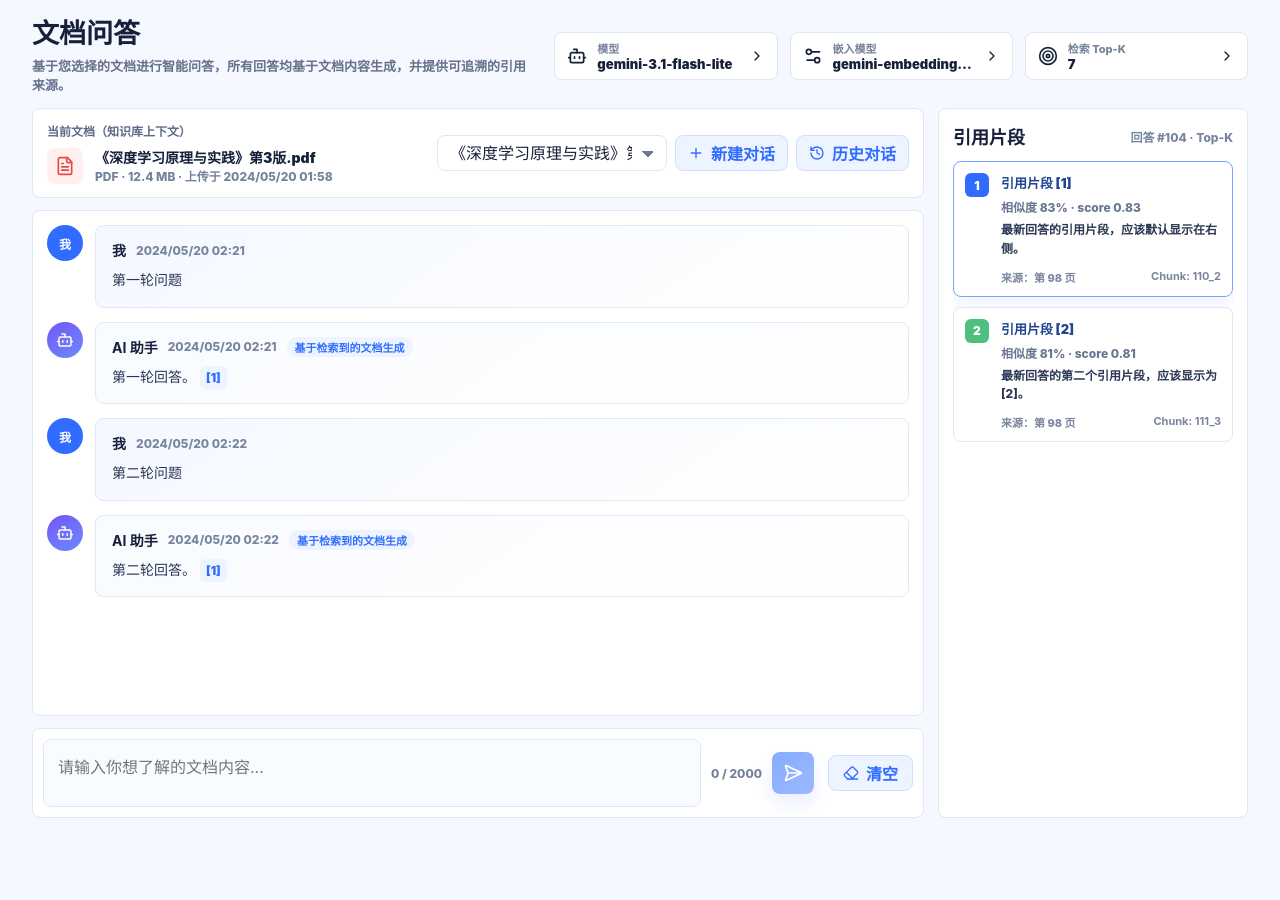
Test: DocumentChatPage › shows citations for the latest answer by default and switches when an older marker is clicked
The image size is (1280, 900).
Check: the text "最新回答的引用片段，应该默认显示在右侧。" is shown, box [1001,221,1221,259]
Check: the text "引用片段 [1]" is shown, box [1001,175,1072,191]
Click the button named "引用 1" at (213, 377), box [200,366,227,389]
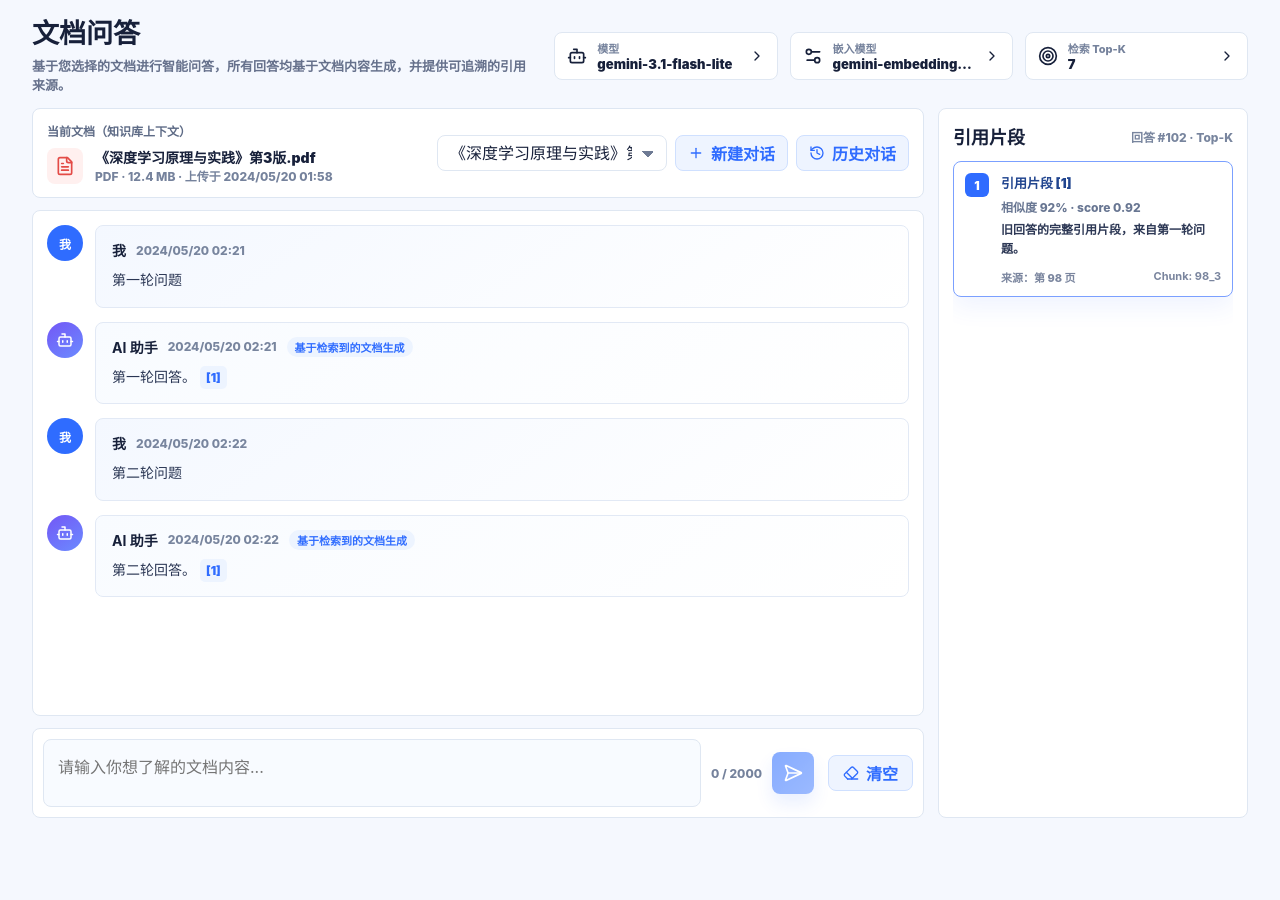
Check: the text "旧回答的完整引用片段，来自第一轮问题。" is shown, box [1001,221,1221,259]
Check: the button "引用片段 [2]" is gone
Check: the button "最新回答的引用片段，应该默认显示在右侧。" is gone
